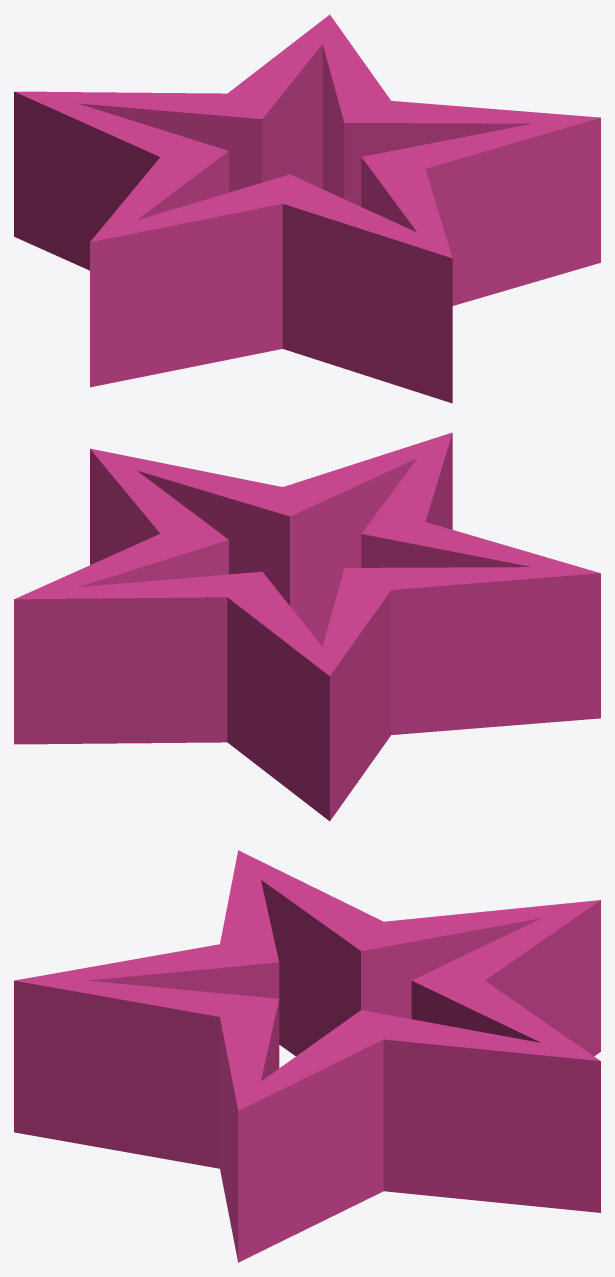
The model's file is MoldeEstrella.glb.
3 views of the same model, one above another, from view 1: azimuth 30°, elevation 25°; view 2: azimuth 150°, elevation 25°; view 3: azimuth 270°, elevation 25° (orthographic). The views are drawn at different scales.
Parts seen in each view (by area): view 1: Molde_Estrella_Hueco; view 2: Molde_Estrella_Hueco; view 3: Molde_Estrella_Hueco.
Boxes of the visible parts, x1,y1,x2,y2 form: Molde_Estrella_Hueco: [14, 14, 600, 403]; Molde_Estrella_Hueco: [14, 432, 600, 821]; Molde_Estrella_Hueco: [14, 850, 600, 1262].
Bounding box in the file's own units: 1.18 × 0.32 × 1.12.
